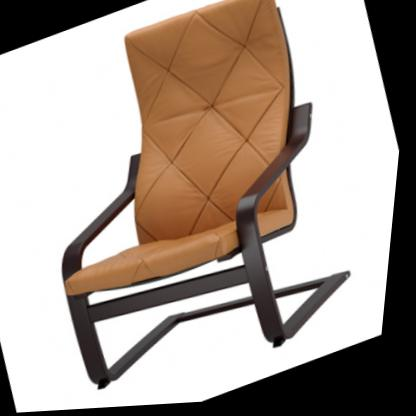Chair: (0, 0, 395, 415)
